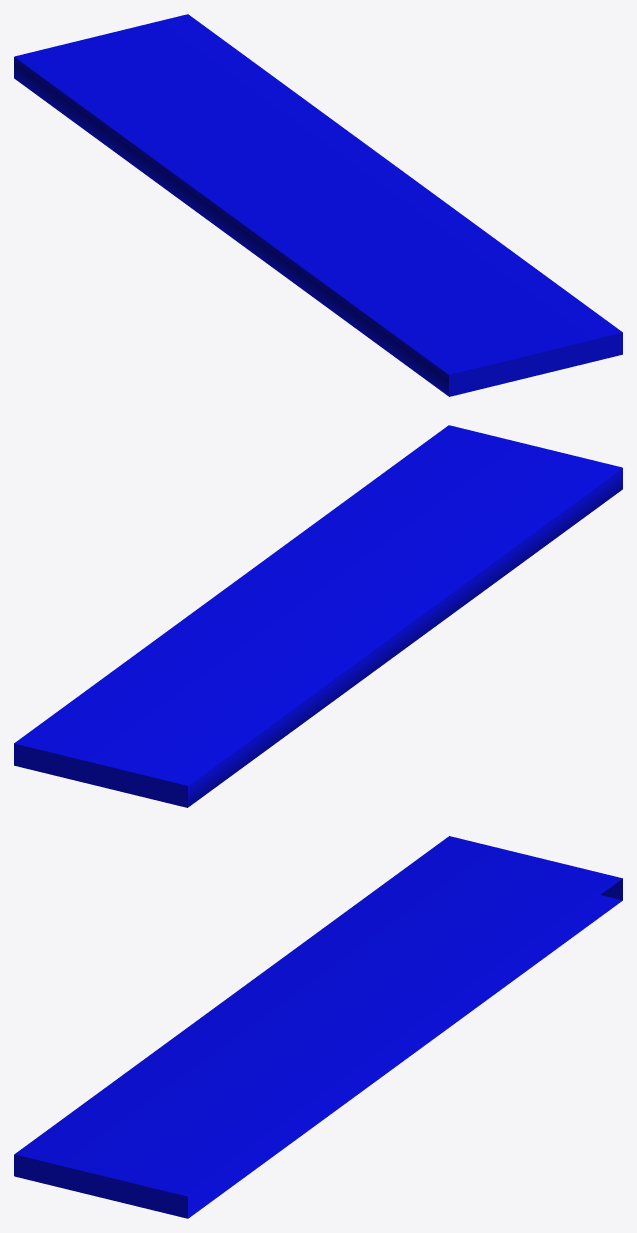
The model's file is WDesk_Mini.FBX.
3 views of the same model, one above another, from view 1: azimuth 30°, elevation 25°; view 2: azimuth 150°, elevation 25°; view 3: azimuth 330°, elevation 25° (orthographic).
Parts seen in each view (by area): view 1: WDesk_Min; view 2: WDesk_Min; view 3: WDesk_Min.
Boxes of the visible parts, bbox=[...] form: WDesk_Min: bbox=[14, 14, 622, 396]; WDesk_Min: bbox=[14, 425, 622, 807]; WDesk_Min: bbox=[14, 836, 622, 1218].
Bounding box in the file's own units: 22.75 × 2.77 × 98.43.
